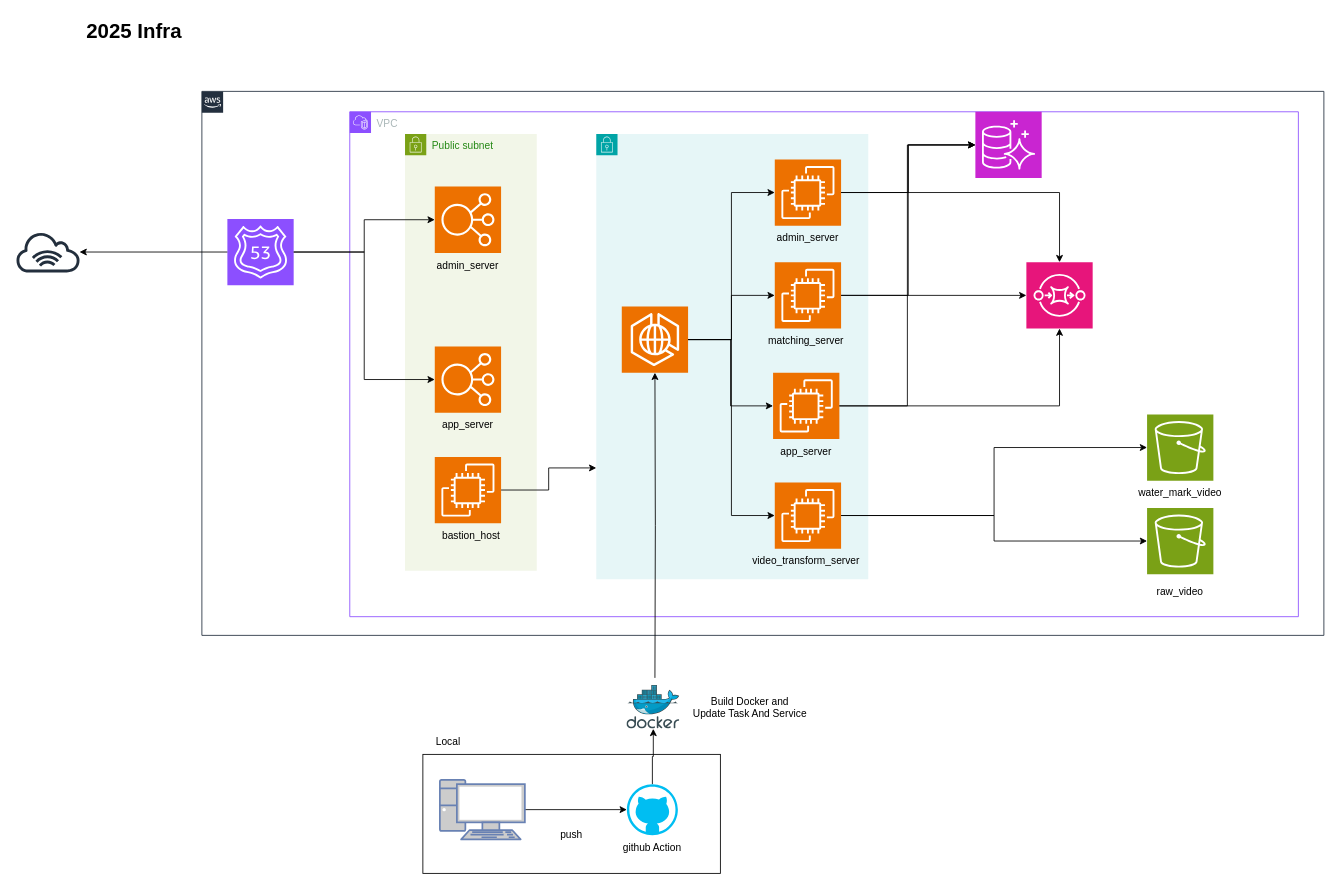
This 1339x888 diagram has some shape labels left out. The shapes that lost their labels are listed below. From the top down, each one's box as (x1, y1, x2, y2) in pixels, then its label:
(595, 133, 868, 579): Private subnet
(201, 91, 1324, 635): AWS Cloud
